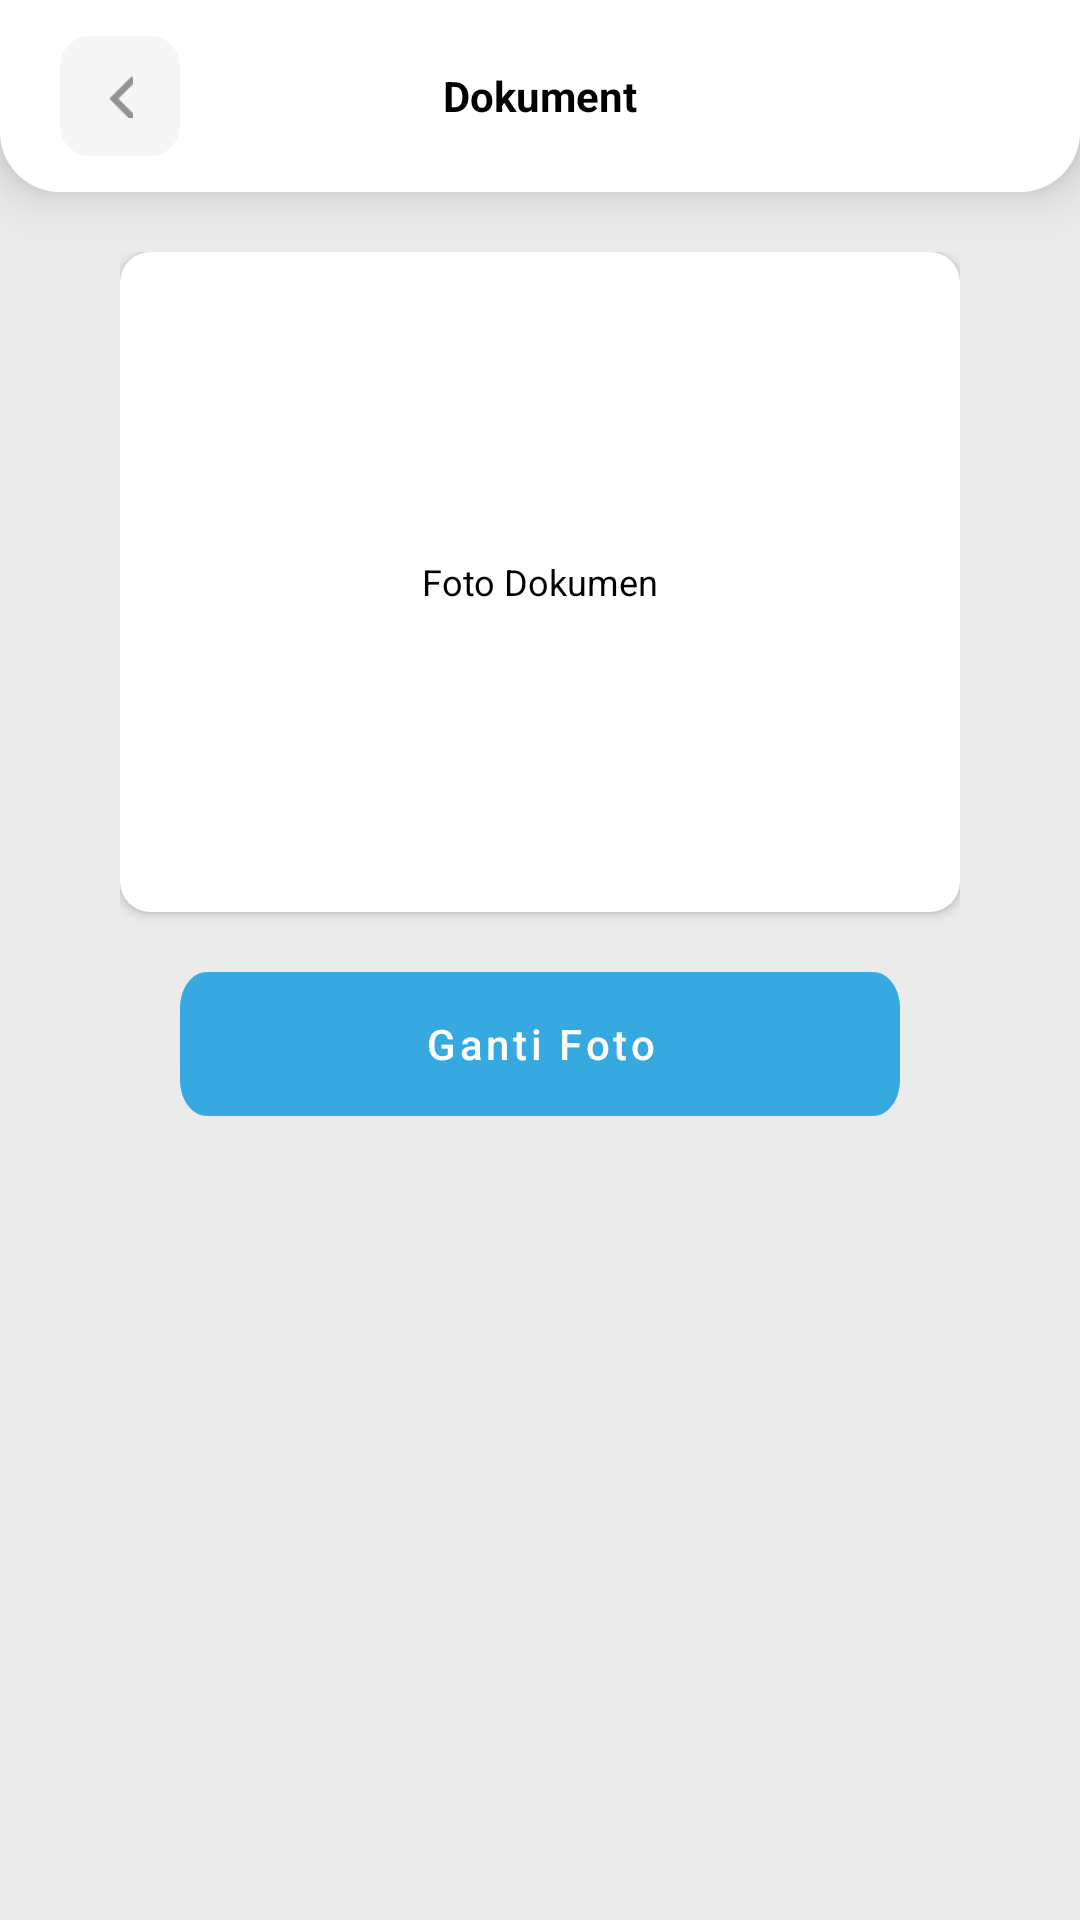

Named icons in this screenshot (1080×1920) and their bounding boxes, (x1, y1, x2, y2):
back: (110, 76, 133, 118)
